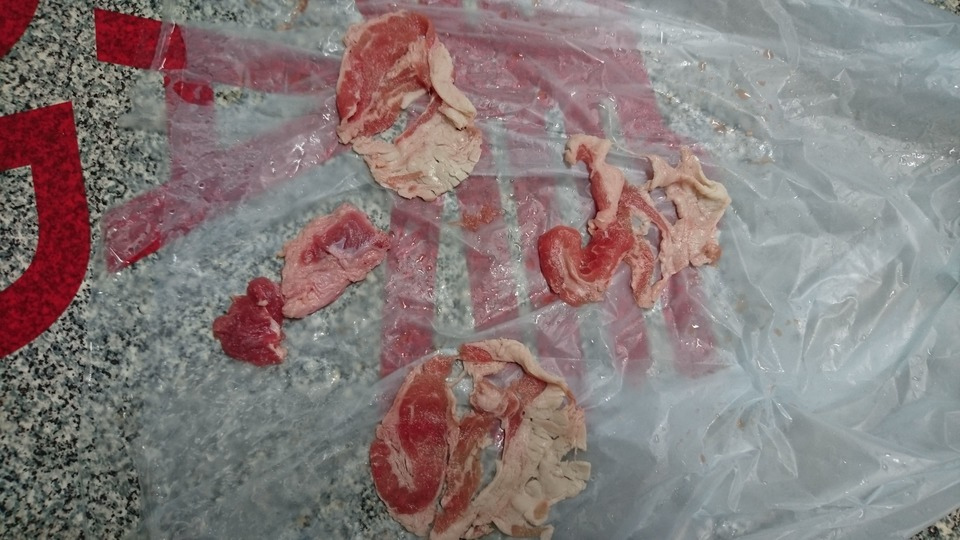restructured meat: (364, 335, 594, 540), (540, 121, 729, 308), (332, 10, 489, 205), (218, 213, 370, 373)
